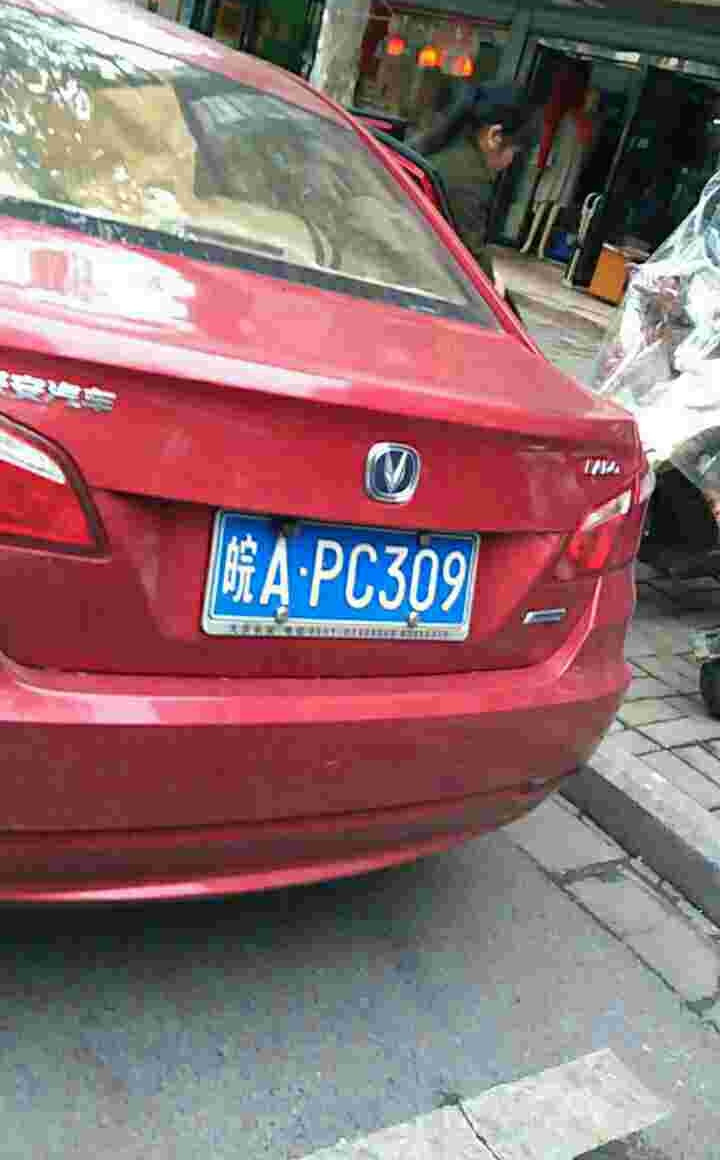license_plate: (222, 541, 474, 628)
